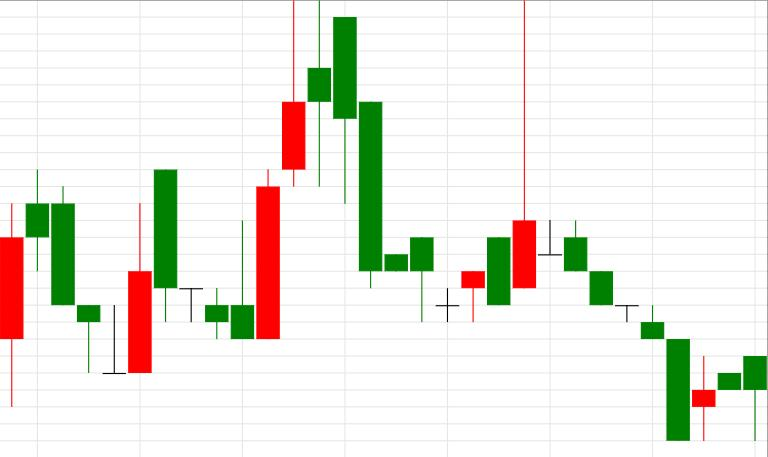bullish_engulfing_rise: (154, 169, 279, 339)
hammer_rise: (308, 1, 434, 323)
inverse_hammer_rise: (155, 170, 254, 339)
